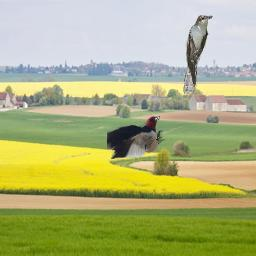Cuckoo: (183, 14, 213, 94)
Woodpecker: (107, 114, 165, 159)
